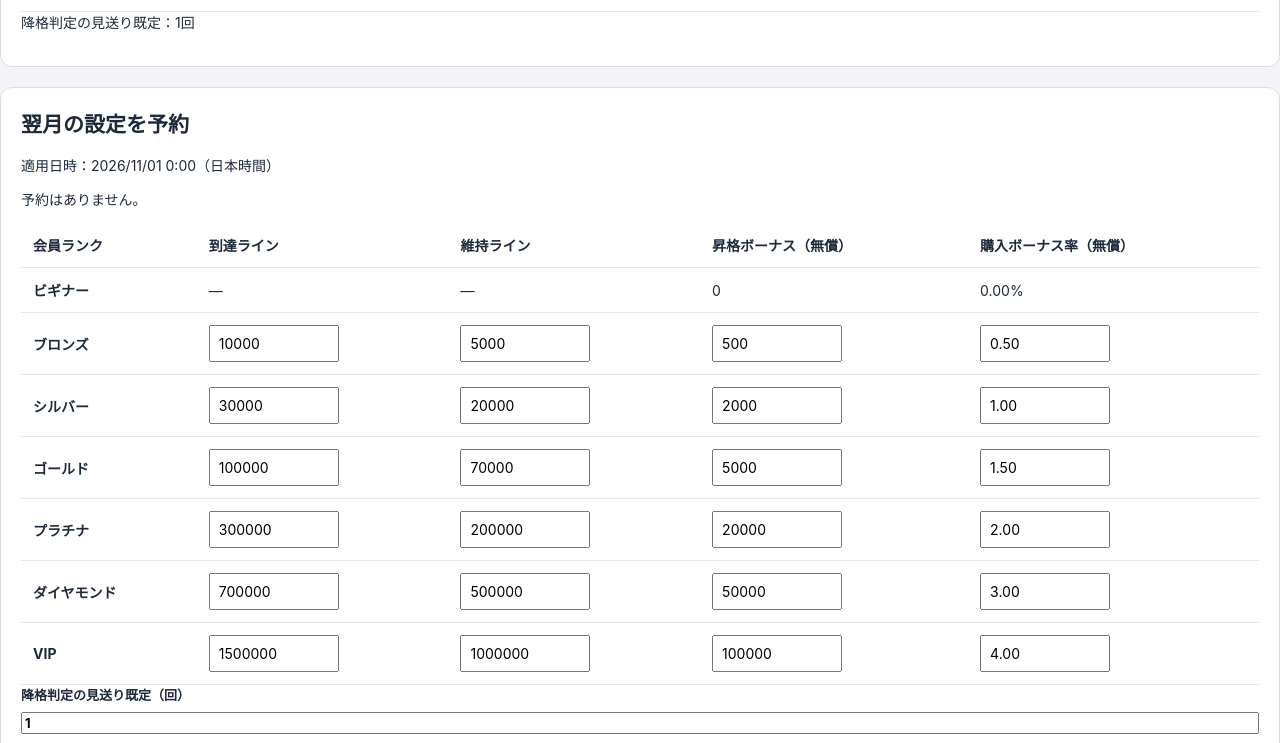
Test: Member rank settings › shows seven ranks, integer basis points, diffs and disabled activation
This screenshot has width=1280, height=743.
(page scrolled)
Replace the text in the number field named "ブロンズ 購入ボーナス率（無償）" with "0.75" at point(1045, 344), box x1=980 y1=325 x2=1110 y2=362
(page scrolled)
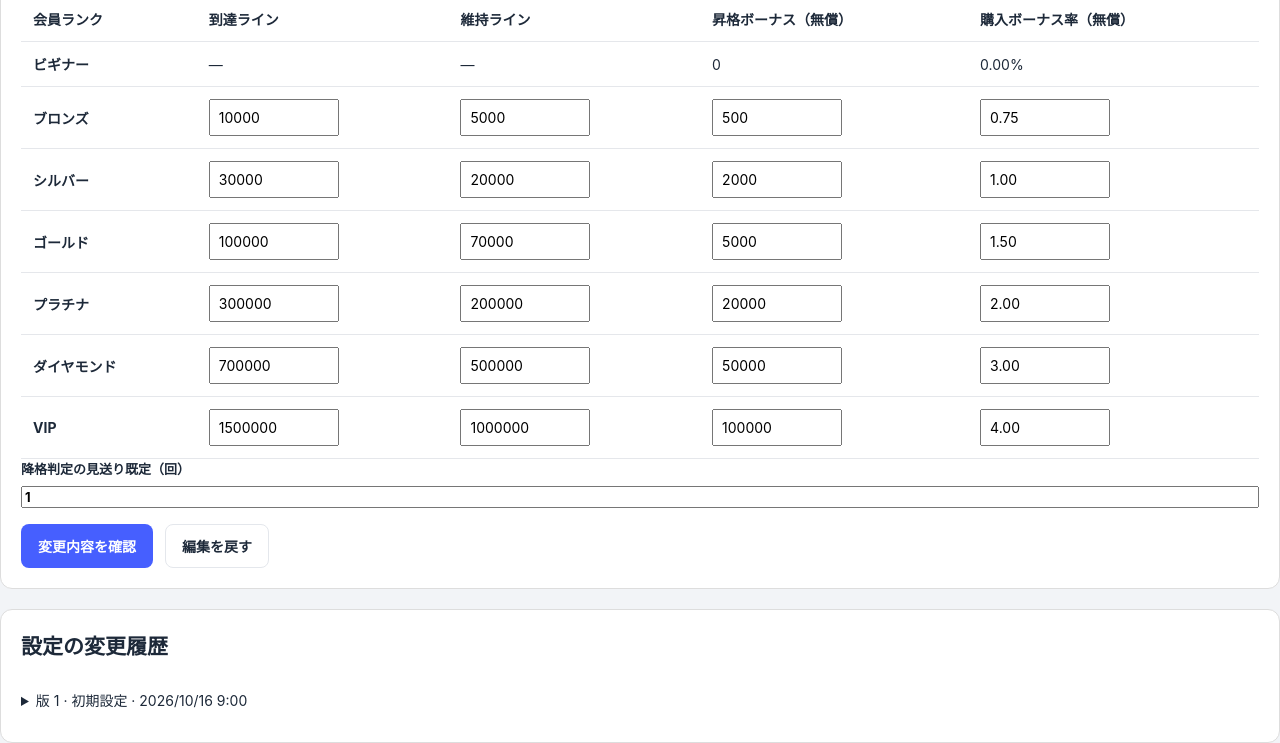
Click the button "変更内容を確認".
click(87, 546)  # box x1=21 y1=524 x2=153 y2=568
(page scrolled)
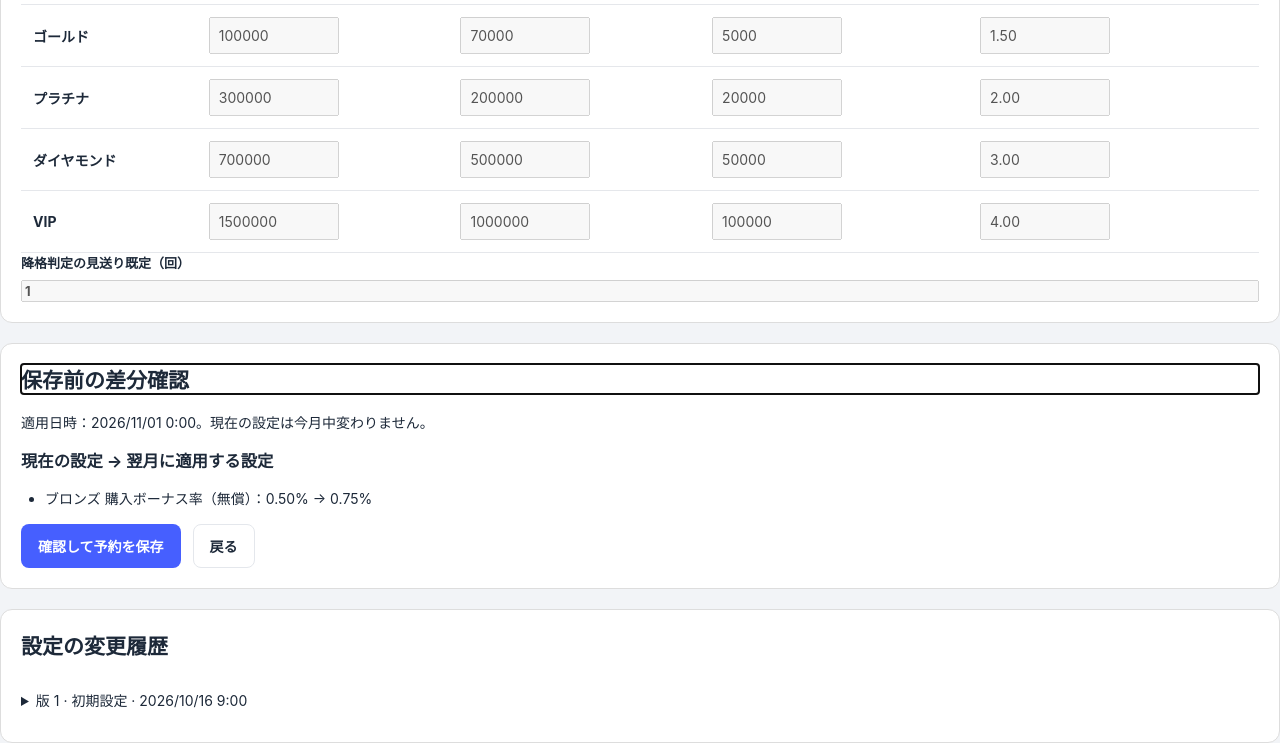
Check: the list item "ブロンズ 購入ボーナス率（無償）：0.50% → 0.75%" is shown, box x1=45 y1=490 x2=372 y2=507
Click the button "確認して予約を保存".
click(101, 546)  # box x1=21 y1=524 x2=181 y2=568
(page scrolled)
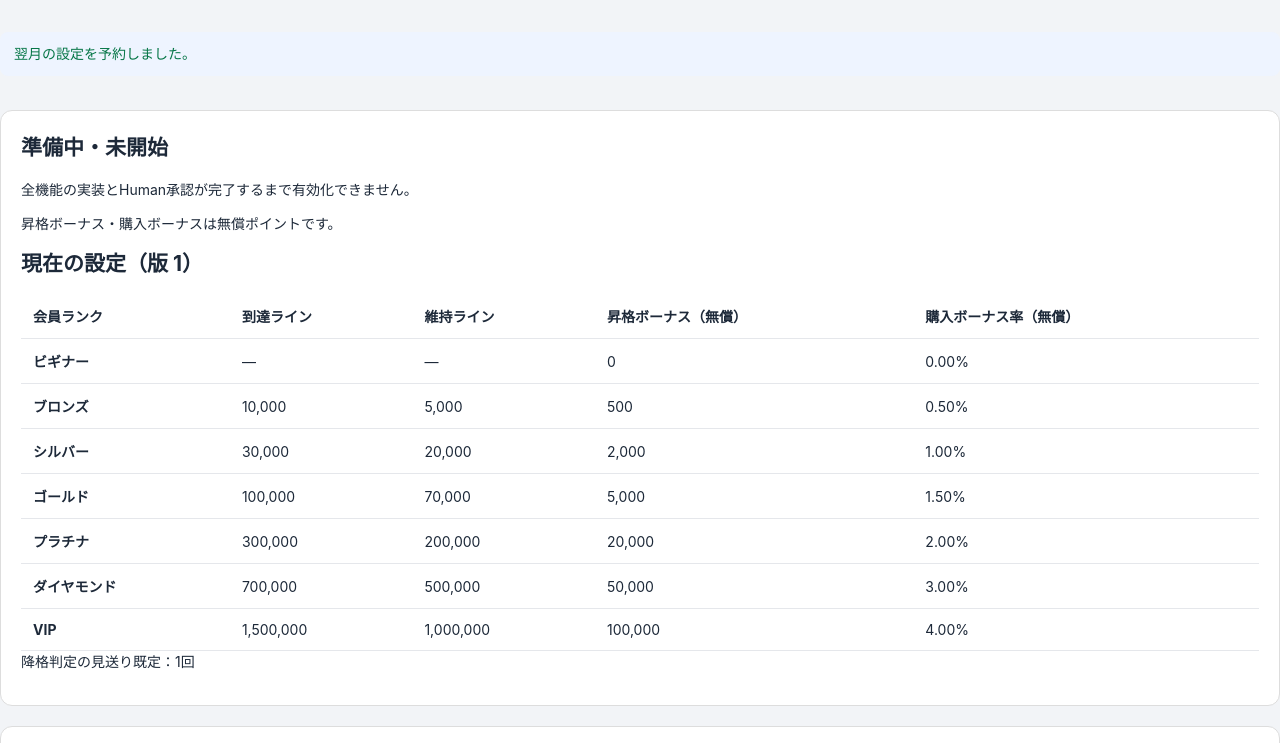
Check: the text "翌月の設定を予約しました。" is shown, box x1=0 y1=32 x2=1279 y2=76
